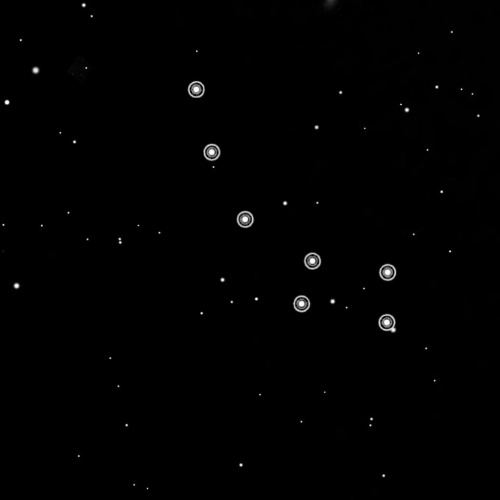ursa_minor: (180, 73, 405, 340)
